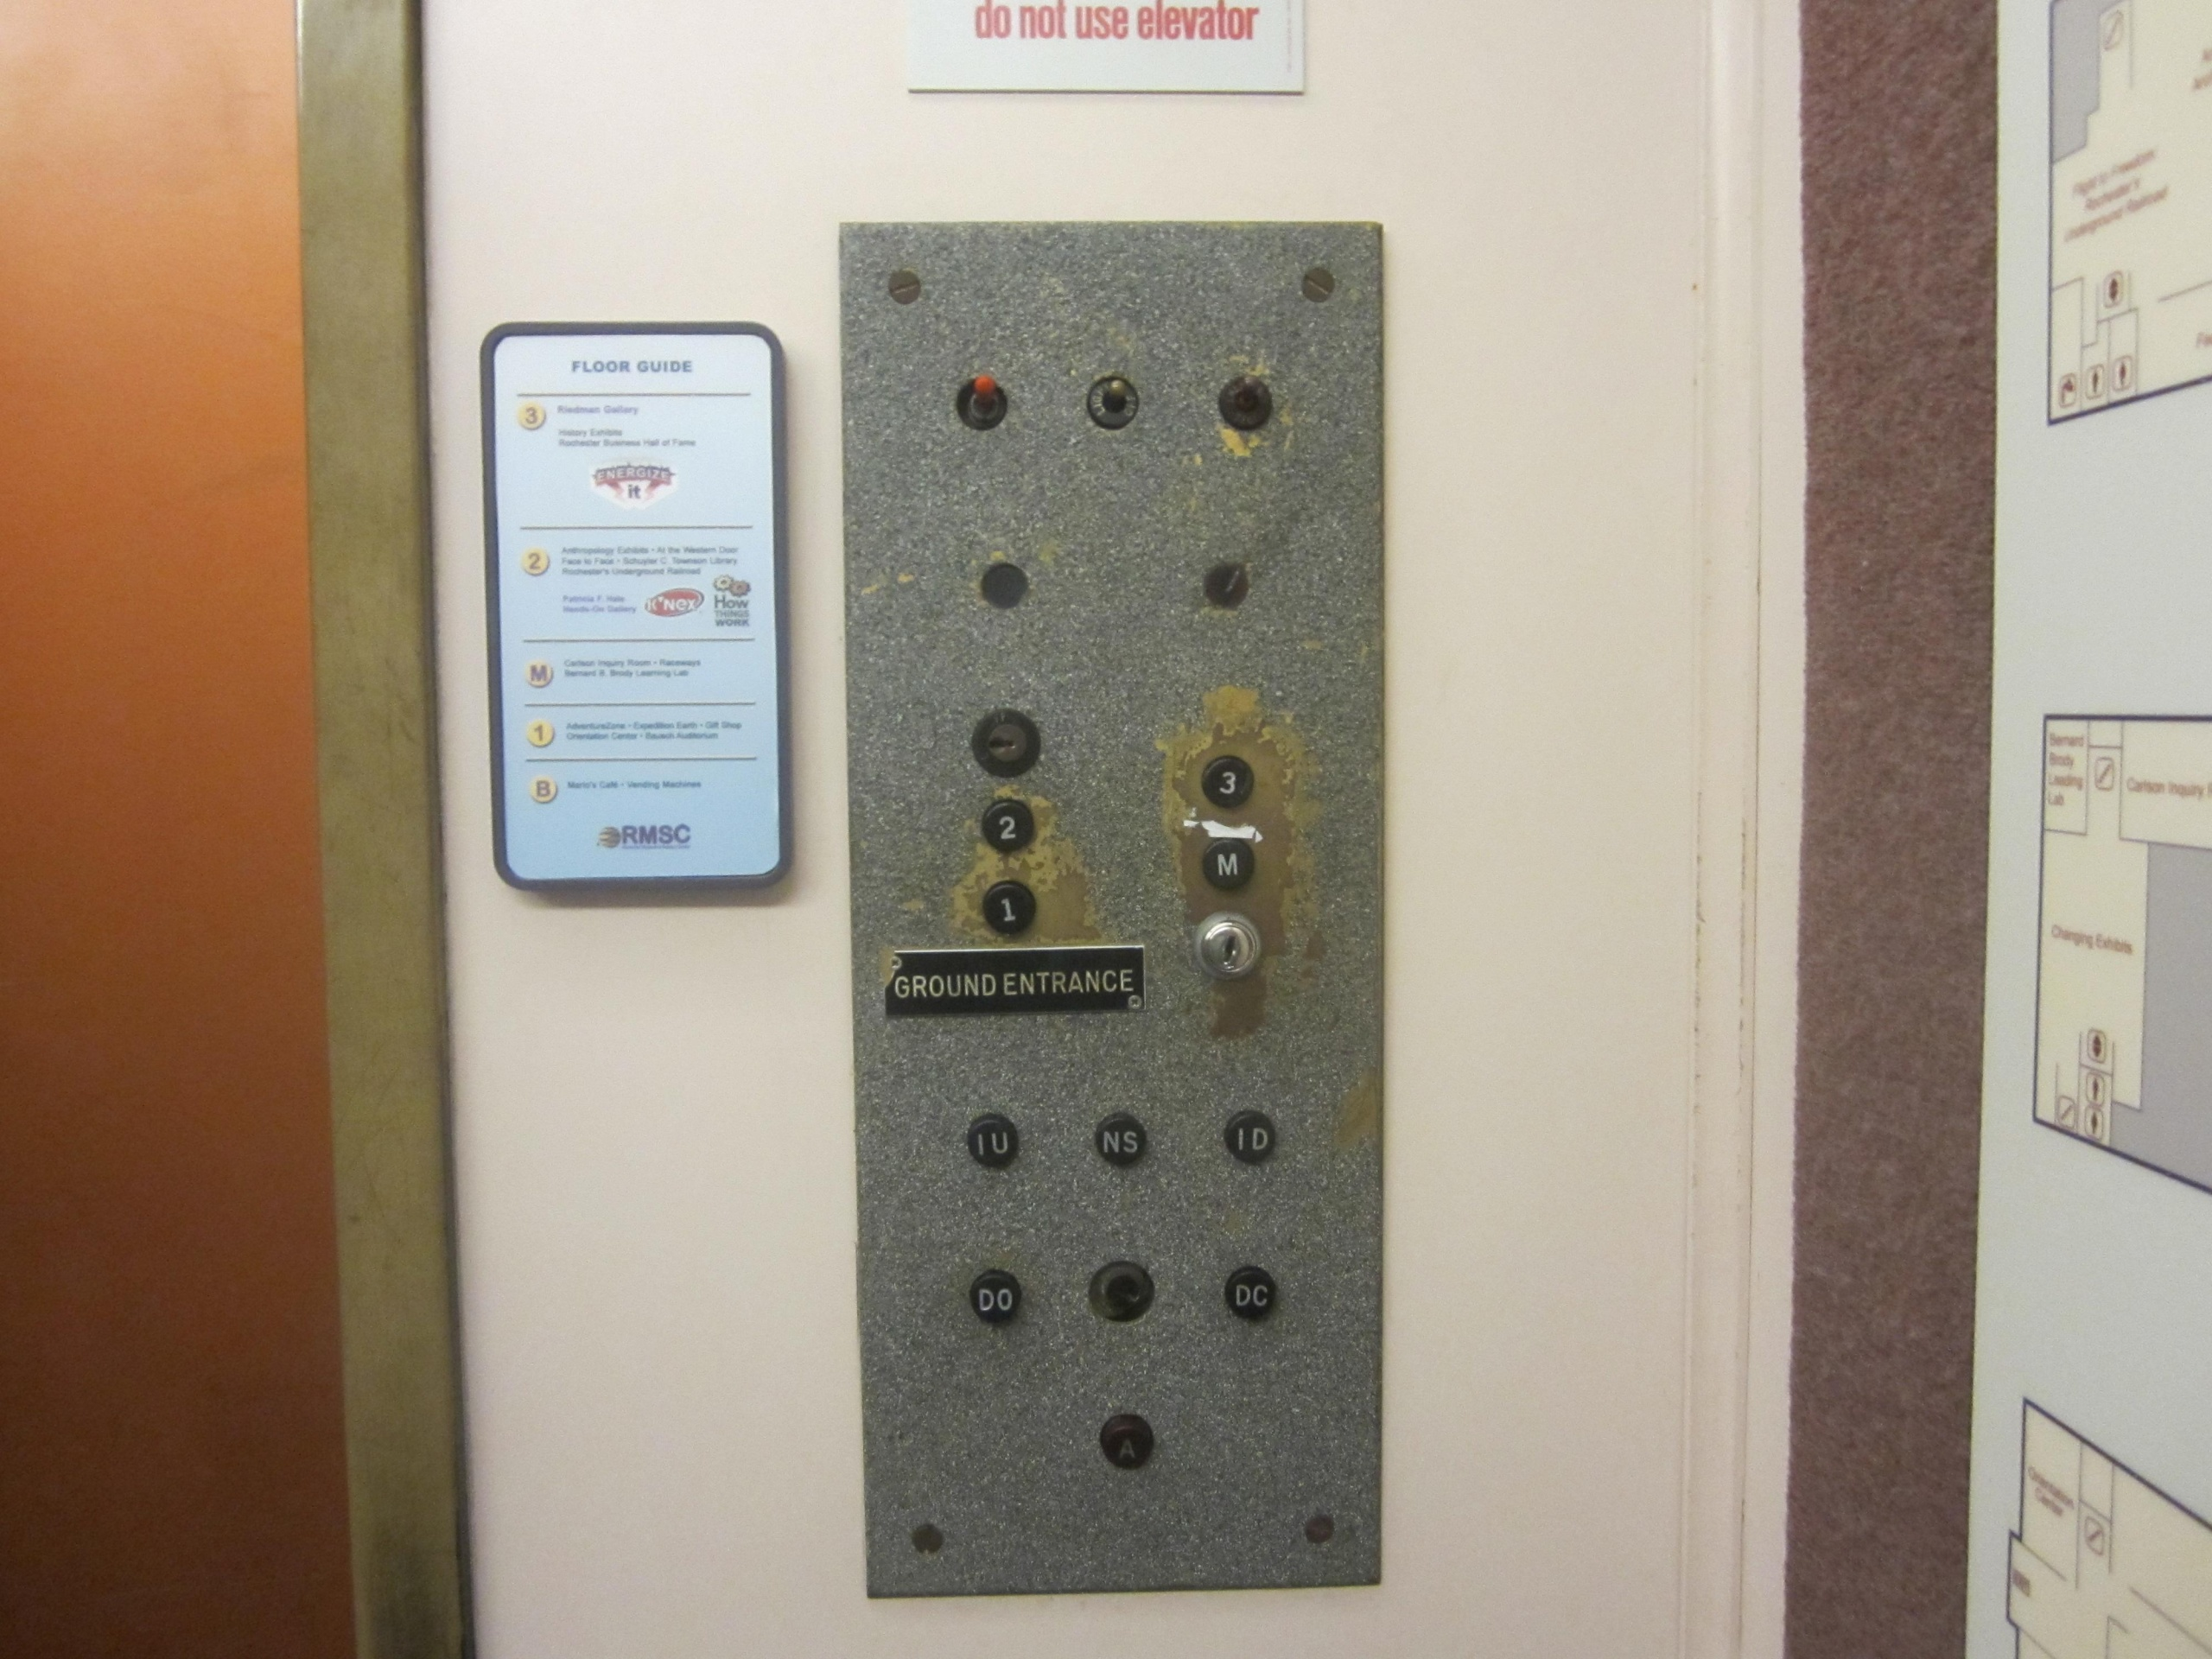1: (977, 875, 1042, 938)
2: (975, 795, 1042, 857)
3: (1195, 749, 1259, 814)
A: (1096, 1408, 1158, 1476)
DC: (1217, 1260, 1282, 1328)
DO: (961, 1262, 1026, 1331)
ID: (1216, 1103, 1280, 1171)
IU: (961, 1107, 1026, 1175)
M: (1195, 831, 1261, 894)
NS: (1087, 1105, 1151, 1173)
keyhole: (965, 704, 1045, 779), (1190, 908, 1264, 983)
switch: (948, 371, 1014, 439), (1078, 368, 1144, 436), (1214, 368, 1280, 436)
unknown: (1082, 1253, 1160, 1331)
